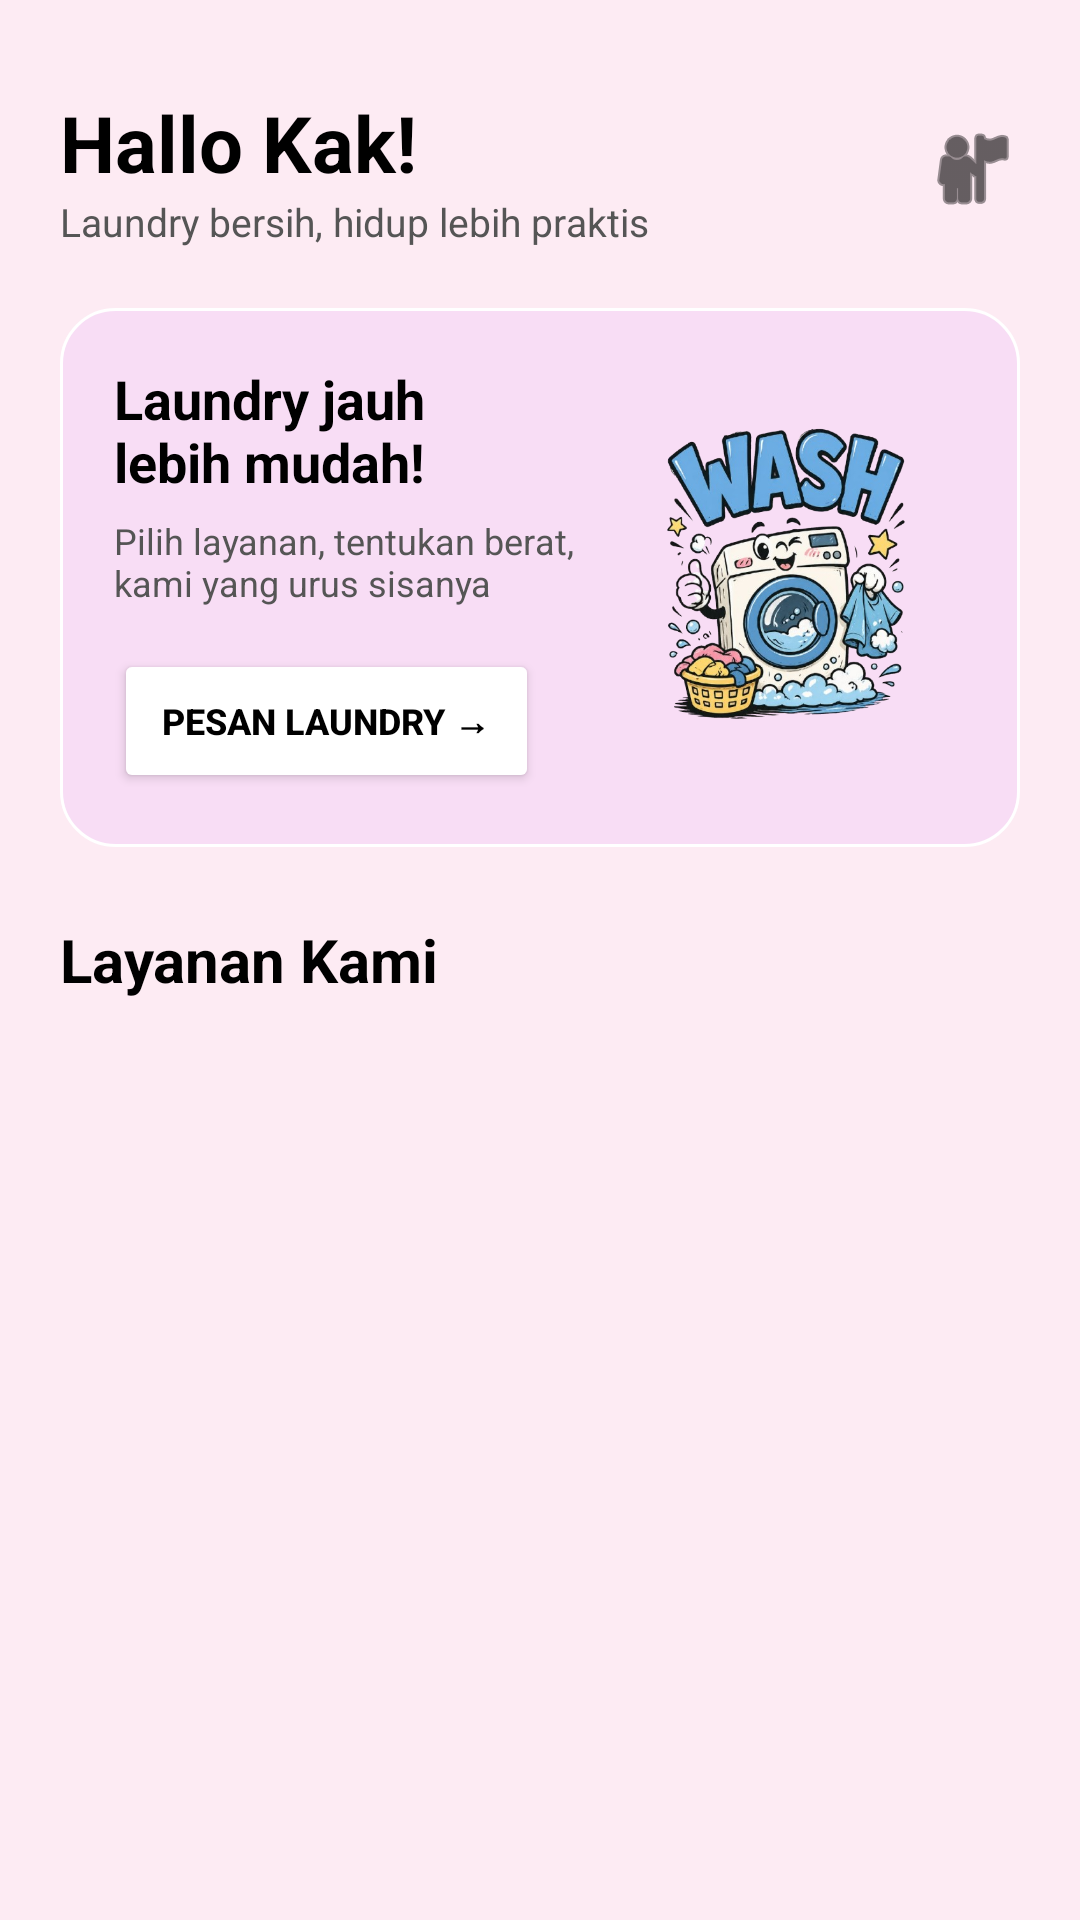

Screen size 1080 × 1920. Icon name, then its box in pixels as (x1, y1, x2, y2):
Profil Akun: (937, 133, 1009, 205)
